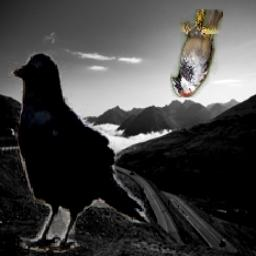Crow: (8, 50, 151, 254)
Sparrow: (170, 11, 223, 99)
